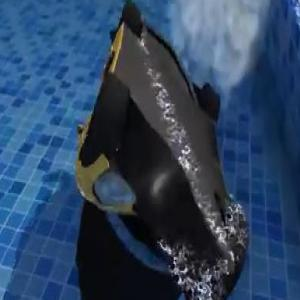serious: (71, 0, 250, 300)
